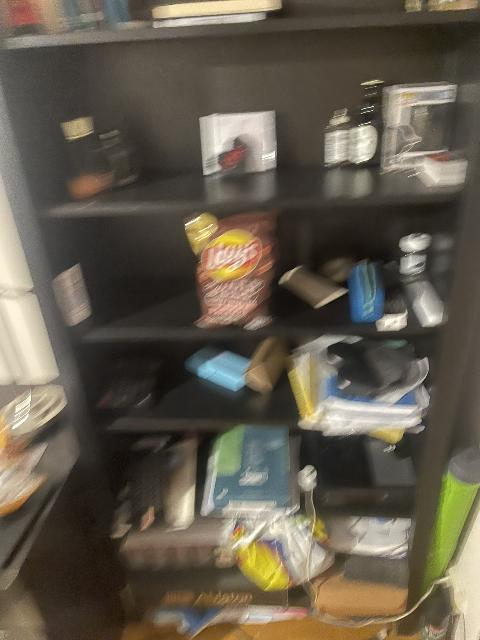Lays Beef Grilled Ribs 125g: (188, 211, 280, 331)
